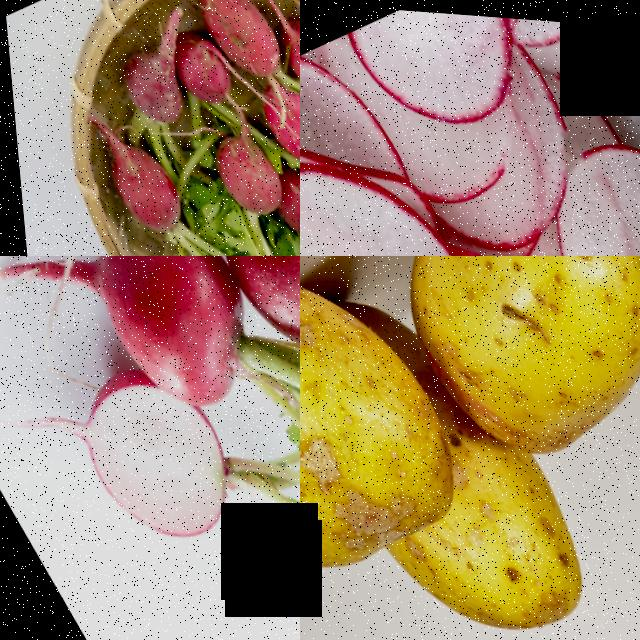potato: (300, 256, 493, 640), (338, 256, 640, 490), (365, 444, 622, 640)
radishes: (89, 0, 257, 168), (177, 0, 300, 218), (84, 122, 219, 256), (187, 99, 300, 256)
spinach: (0, 256, 300, 639)
